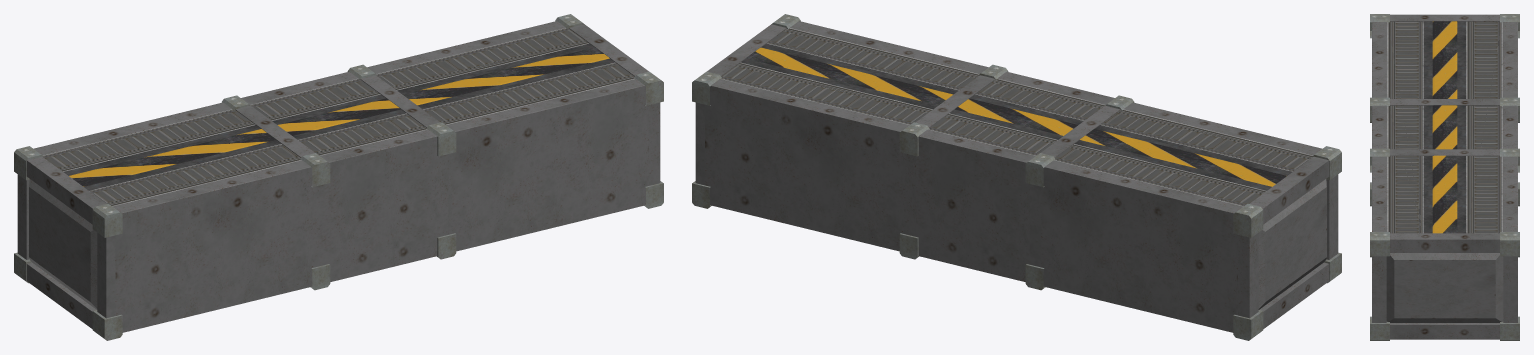
The model's file is Ob_RailRoadConnector_RC.fbx.
3 views of the same model, side by side, from view 1: azimuth 30°, elevation 25°; view 2: azimuth 150°, elevation 25°; view 3: azimuth 270°, elevation 25° (orthographic). The views are drawn at different scales.
Parts seen in each view (by area): view 1: Ob_RailRoadConnector_RC; view 2: Ob_RailRoadConnector_RC; view 3: Ob_RailRoadConnector_RC.
Part boxes in pixels (x1,y1,x2,y2): Ob_RailRoadConnector_RC: (14, 14, 663, 340); Ob_RailRoadConnector_RC: (692, 14, 1341, 340); Ob_RailRoadConnector_RC: (1370, 14, 1519, 340).
Bounding box in the file's own units: 2008 × 430 × 564.
